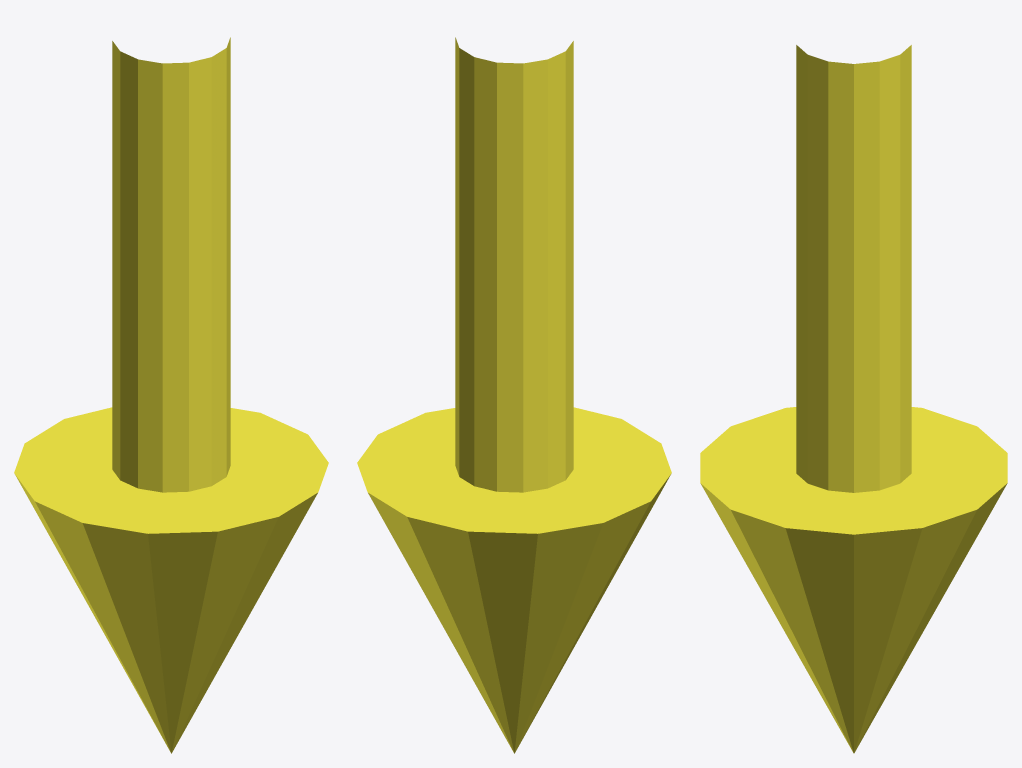
File: arrow.glb
The picture shows the model from 3 angles, left to right: view 1: azimuth 30°, elevation 25°; view 2: azimuth 150°, elevation 25°; view 3: azimuth 270°, elevation 25°; orthographic projection.
Parts seen in each view (by area): view 1: arrow; view 2: arrow; view 3: arrow.
Part boxes in pixels (bbox=[...]): arrow: bbox=[14, 37, 328, 753]; arrow: bbox=[357, 37, 671, 753]; arrow: bbox=[700, 45, 1007, 753].
Size of the model in its own units: 0.8 by 2 by 0.7799.
